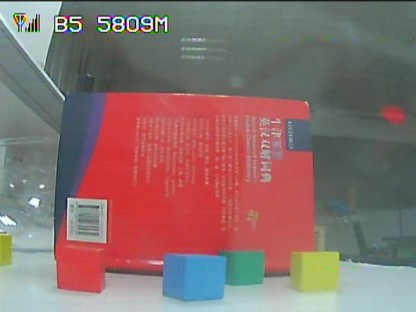b: (165, 256, 221, 296)
g: (227, 251, 264, 283)
r: (58, 247, 100, 290)
